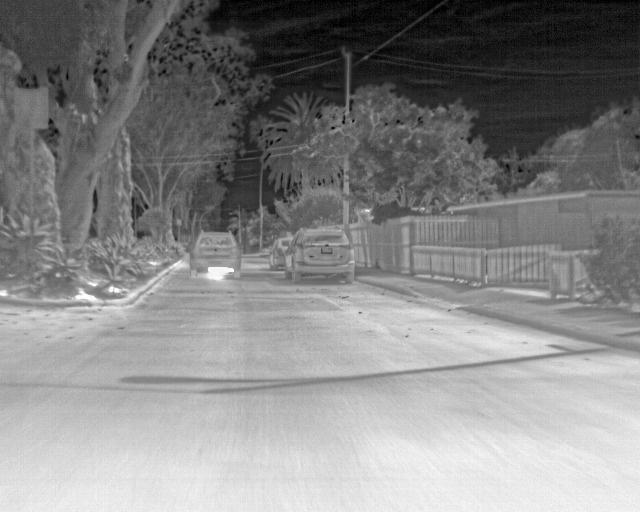car: (283, 226, 357, 286), (187, 227, 243, 278), (266, 235, 294, 270)
